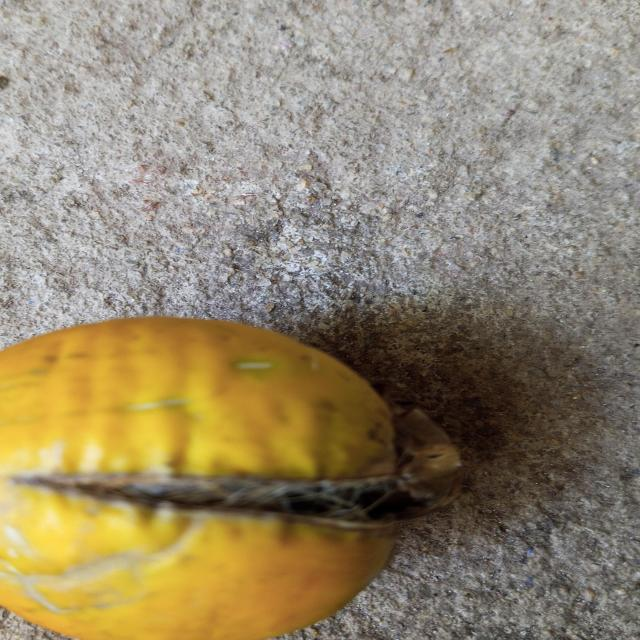damaged: (0, 316, 458, 640)
